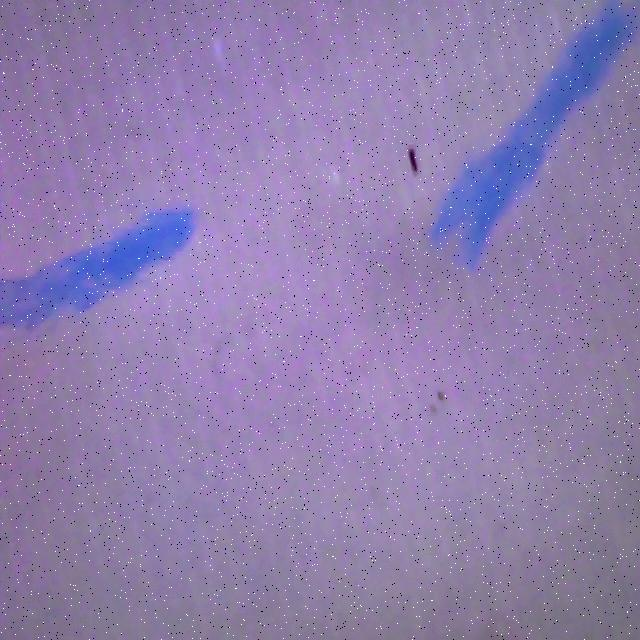fibers: (0, 177, 207, 352), (1, 0, 1, 0)
